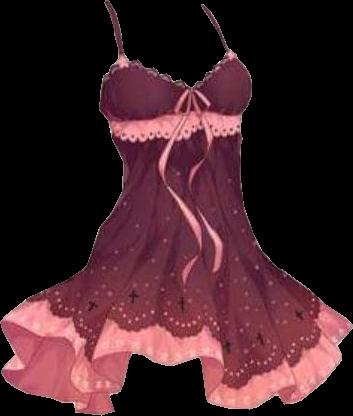Bodice: (99, 0, 251, 142)
Hemline: (0, 316, 352, 410)
Neckline: (106, 0, 227, 89)
Skirt: (1, 134, 352, 414)
Waistline: (110, 131, 242, 144)
